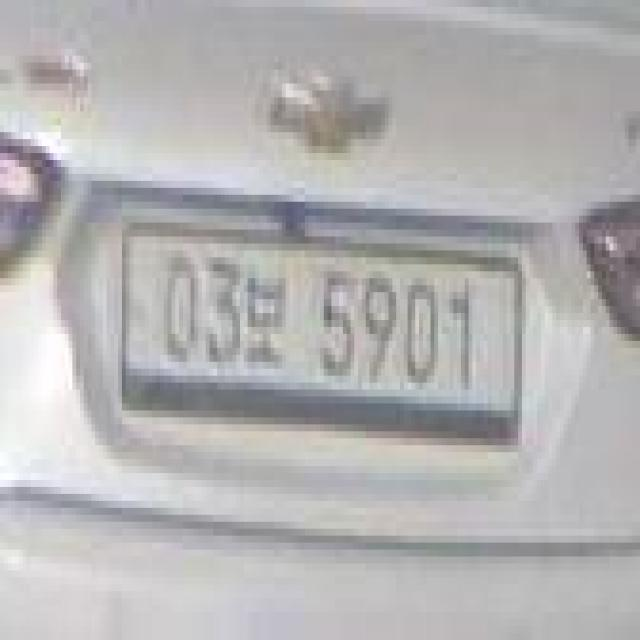illegal_plate: (114, 209, 530, 462)
